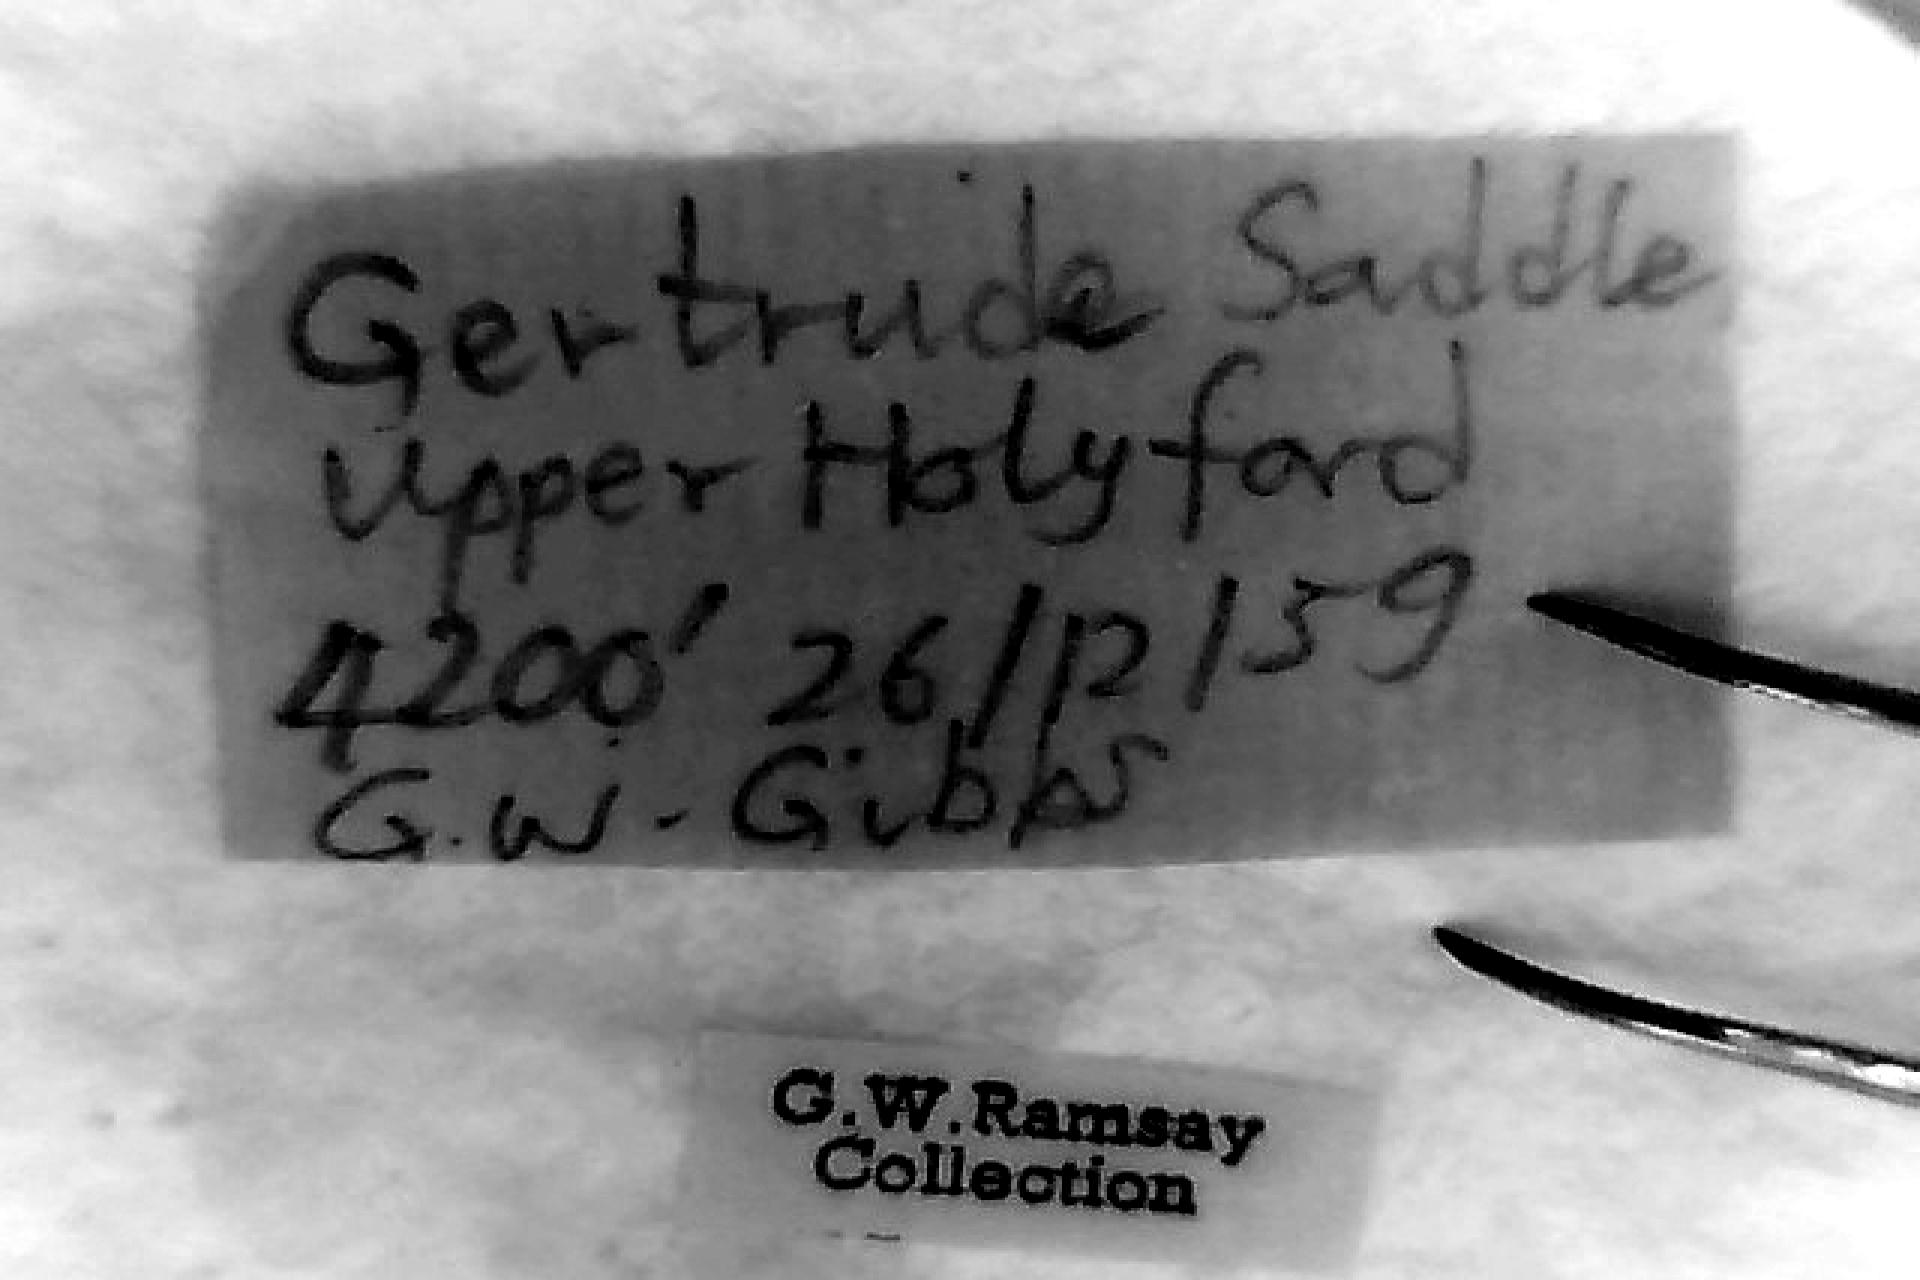hand_label: (210, 140, 1731, 865)
typed_label: (690, 1033, 1376, 1268)
